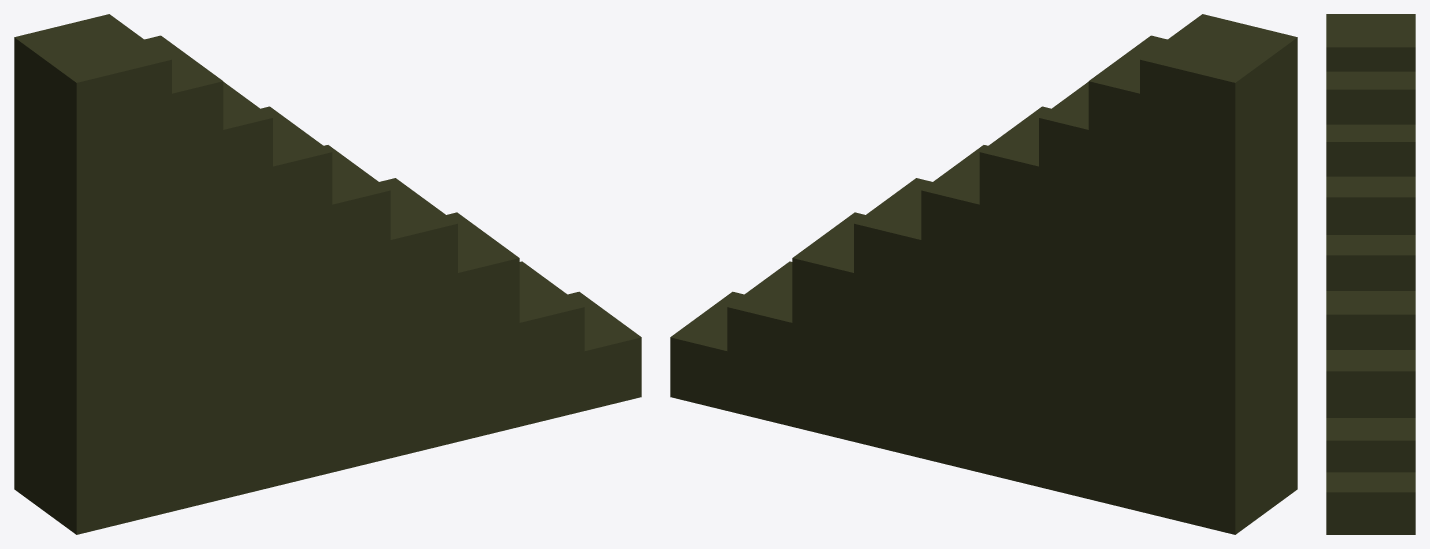
Rendered from Stairs.fbx.
3 views of the same model, side by side, from view 1: azimuth 30°, elevation 25°; view 2: azimuth 150°, elevation 25°; view 3: azimuth 270°, elevation 25° (orthographic). The views are drawn at different scales.
Parts seen in each view (by area): view 1: Cube; view 2: Cube; view 3: Cube.
Boxes of the visible parts, left/top/right/bottom form: Cube: left=14, top=14, right=641, bottom=534; Cube: left=670, top=14, right=1297, bottom=534; Cube: left=1326, top=14, right=1415, bottom=534.
Bounding box in the file's own units: 1980 × 1513 × 379.
